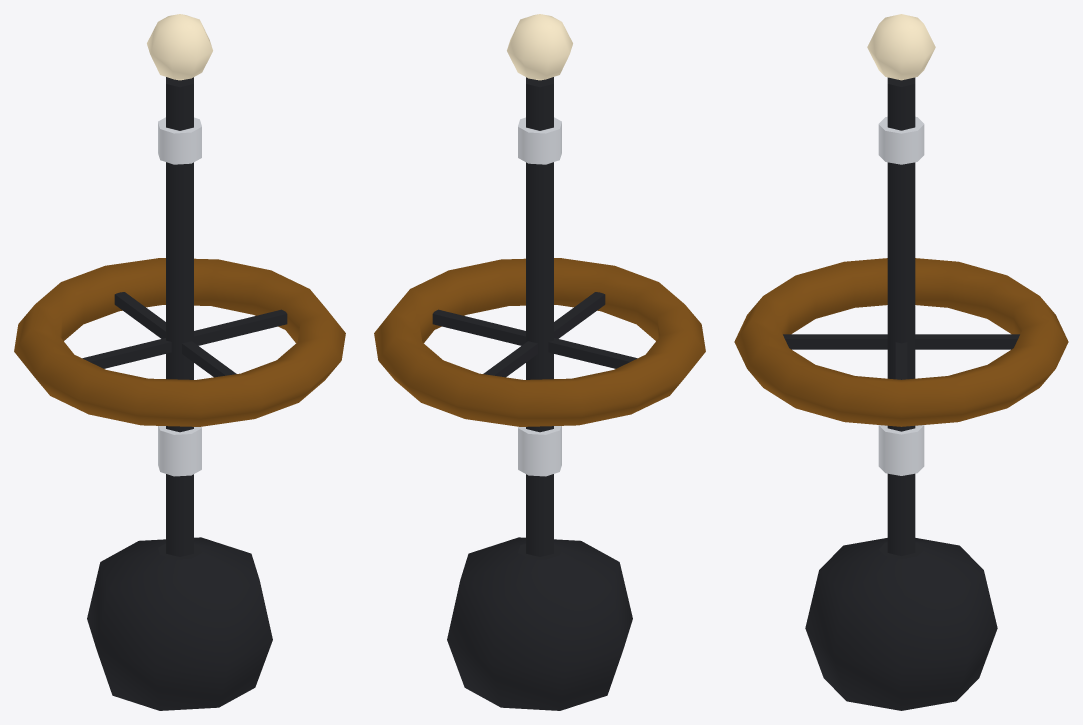
Rendered from buoy.glb.
3 renders of one model, left to right at view 1: azimuth 30°, elevation 25°; view 2: azimuth 150°, elevation 25°; view 3: azimuth 270°, elevation 25°, orthographic.
Parts seen in each view (by area): view 1: Buoy; view 2: Buoy; view 3: Buoy.
Boxes of the visible parts, box(x1,y1,x2,y2) form: Buoy: box(14, 14, 345, 710); Buoy: box(374, 14, 705, 710); Buoy: box(734, 14, 1068, 710).
Bounding box in the file's own units: 1.46 × 3.28 × 1.46.
Materials: 1 (1 with a texture image).
